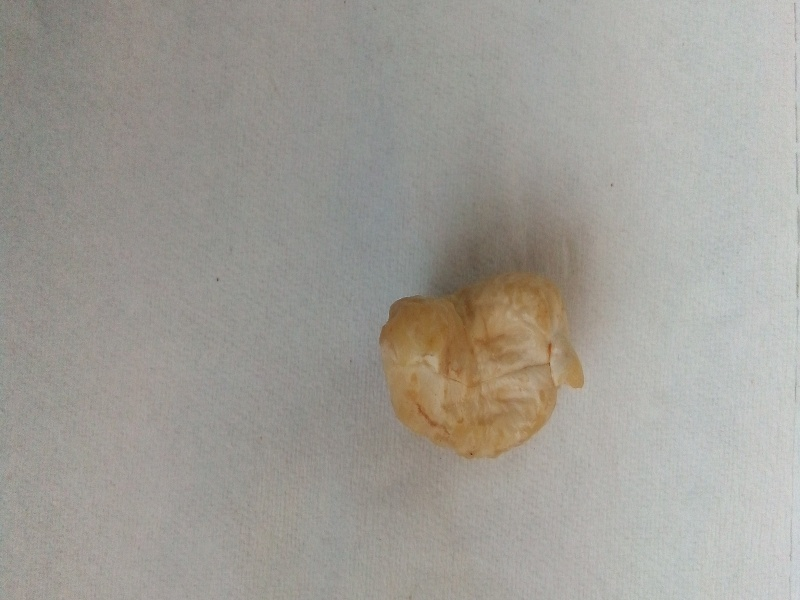cashew: (358, 268, 608, 476)
